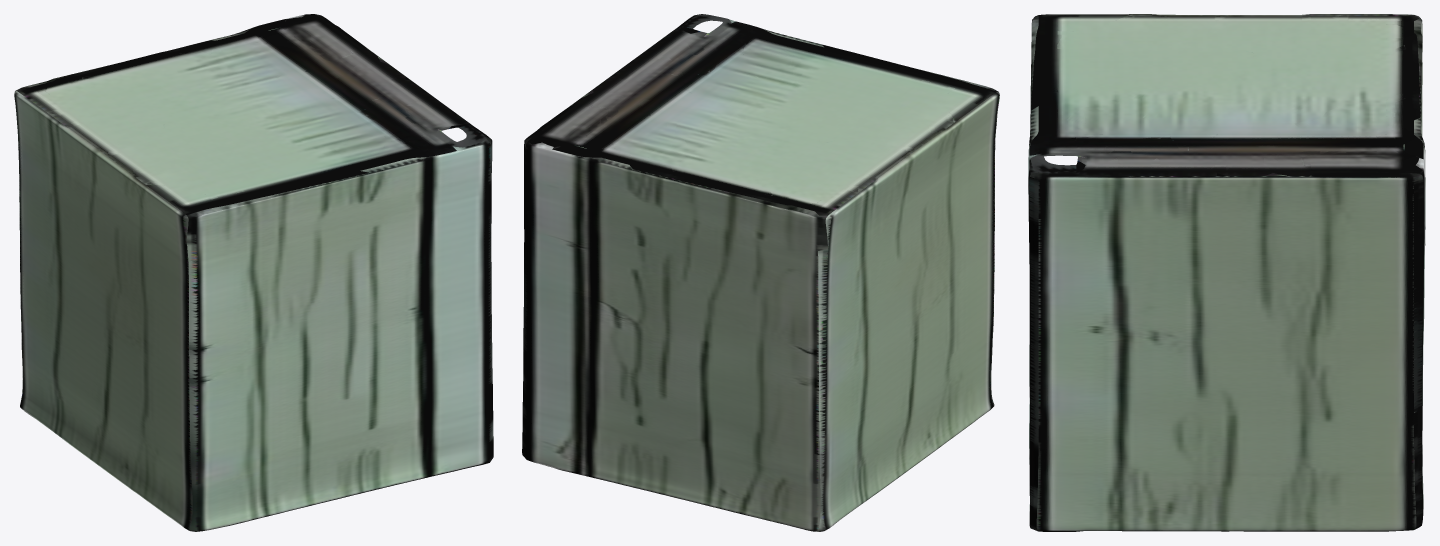
The model's file is wall-clapboard-corner.glb.
The picture shows the model from 3 angles, left to right: view 1: azimuth 30°, elevation 25°; view 2: azimuth 150°, elevation 25°; view 3: azimuth 270°, elevation 25°; orthographic projection. The views are drawn at different scales.
Visible parts, largest first — view 1: tmp30b4m7ms.ply; view 2: tmp30b4m7ms.ply; view 3: tmp30b4m7ms.ply.
Part boxes in pixels (box(x1,y1,x2,y2)): tmp30b4m7ms.ply: box(14, 14, 493, 531); tmp30b4m7ms.ply: box(522, 14, 999, 531); tmp30b4m7ms.ply: box(1028, 14, 1425, 531).
Size of the model in its own units: 1 by 1 by 1.
Materials: 1 (1 with a texture image).
